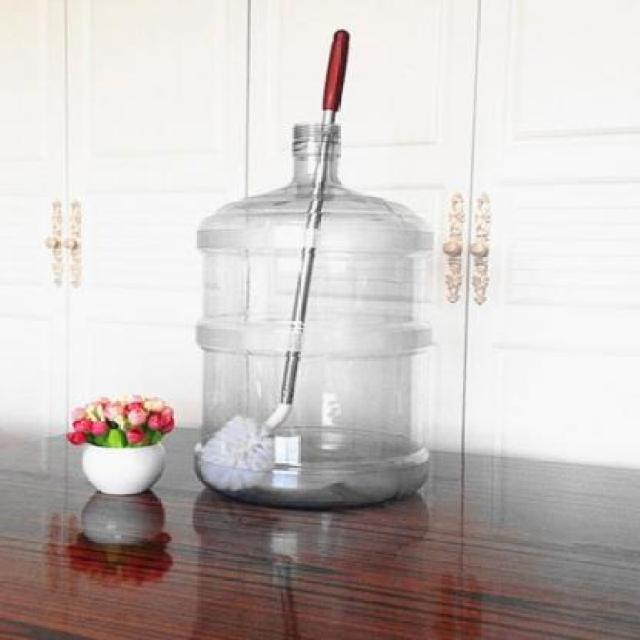coolerbottle: (191, 117, 441, 511)
